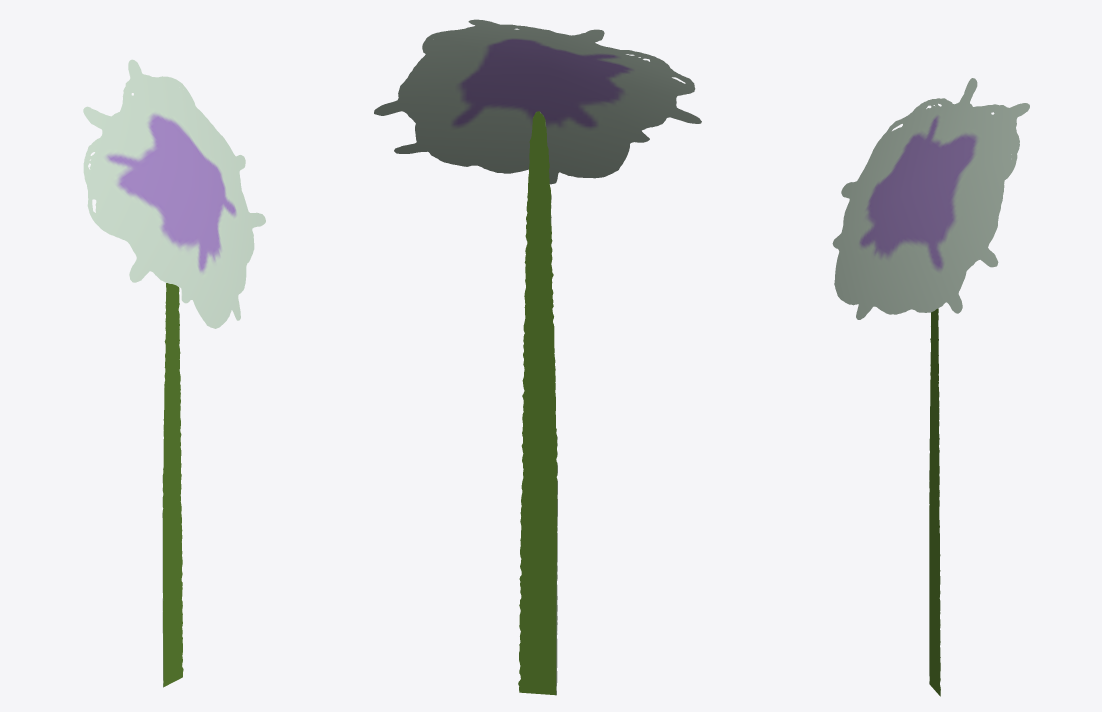
The model's file is MS_Dandelion2.fbx.
3 renders of one model, left to right at view 1: azimuth 30°, elevation 25°; view 2: azimuth 150°, elevation 25°; view 3: azimuth 270°, elevation 25°, orthographic. The views are drawn at different scales.
Visible parts, largest first — view 1: Dandelion2; view 2: Dandelion2; view 3: Dandelion2.
Part boxes in pixels (x1=…): Dandelion2: x1=83, y1=59, x2=265, y2=687; Dandelion2: x1=374, y1=19, x2=701, y2=695; Dandelion2: x1=832, y1=78, x2=1029, y2=696.
Bounding box in the file's own units: 37.27 × 67.31 × 32.41.
